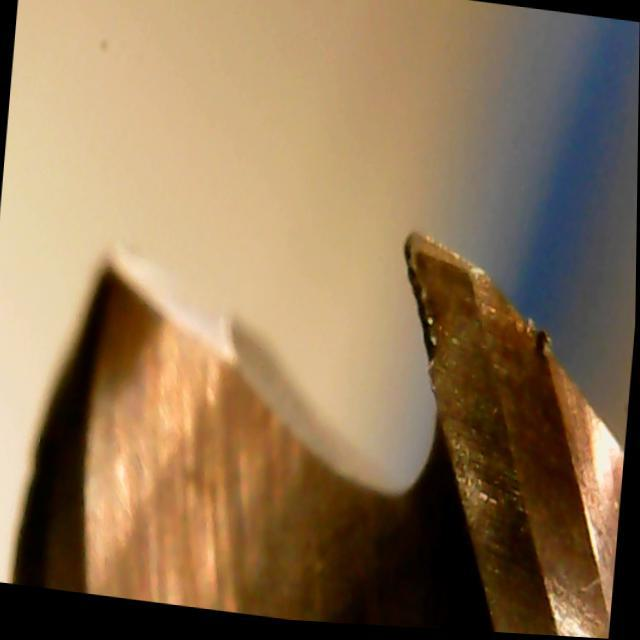Tool-wear-class-1: (385, 226, 545, 474)
